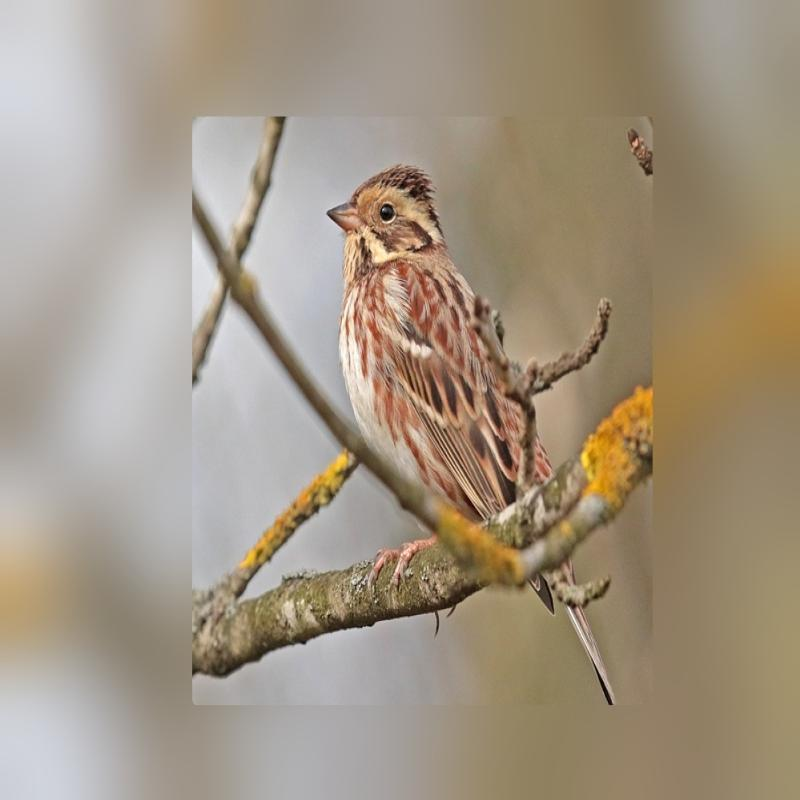rustic bunting: (320, 162, 653, 717)
